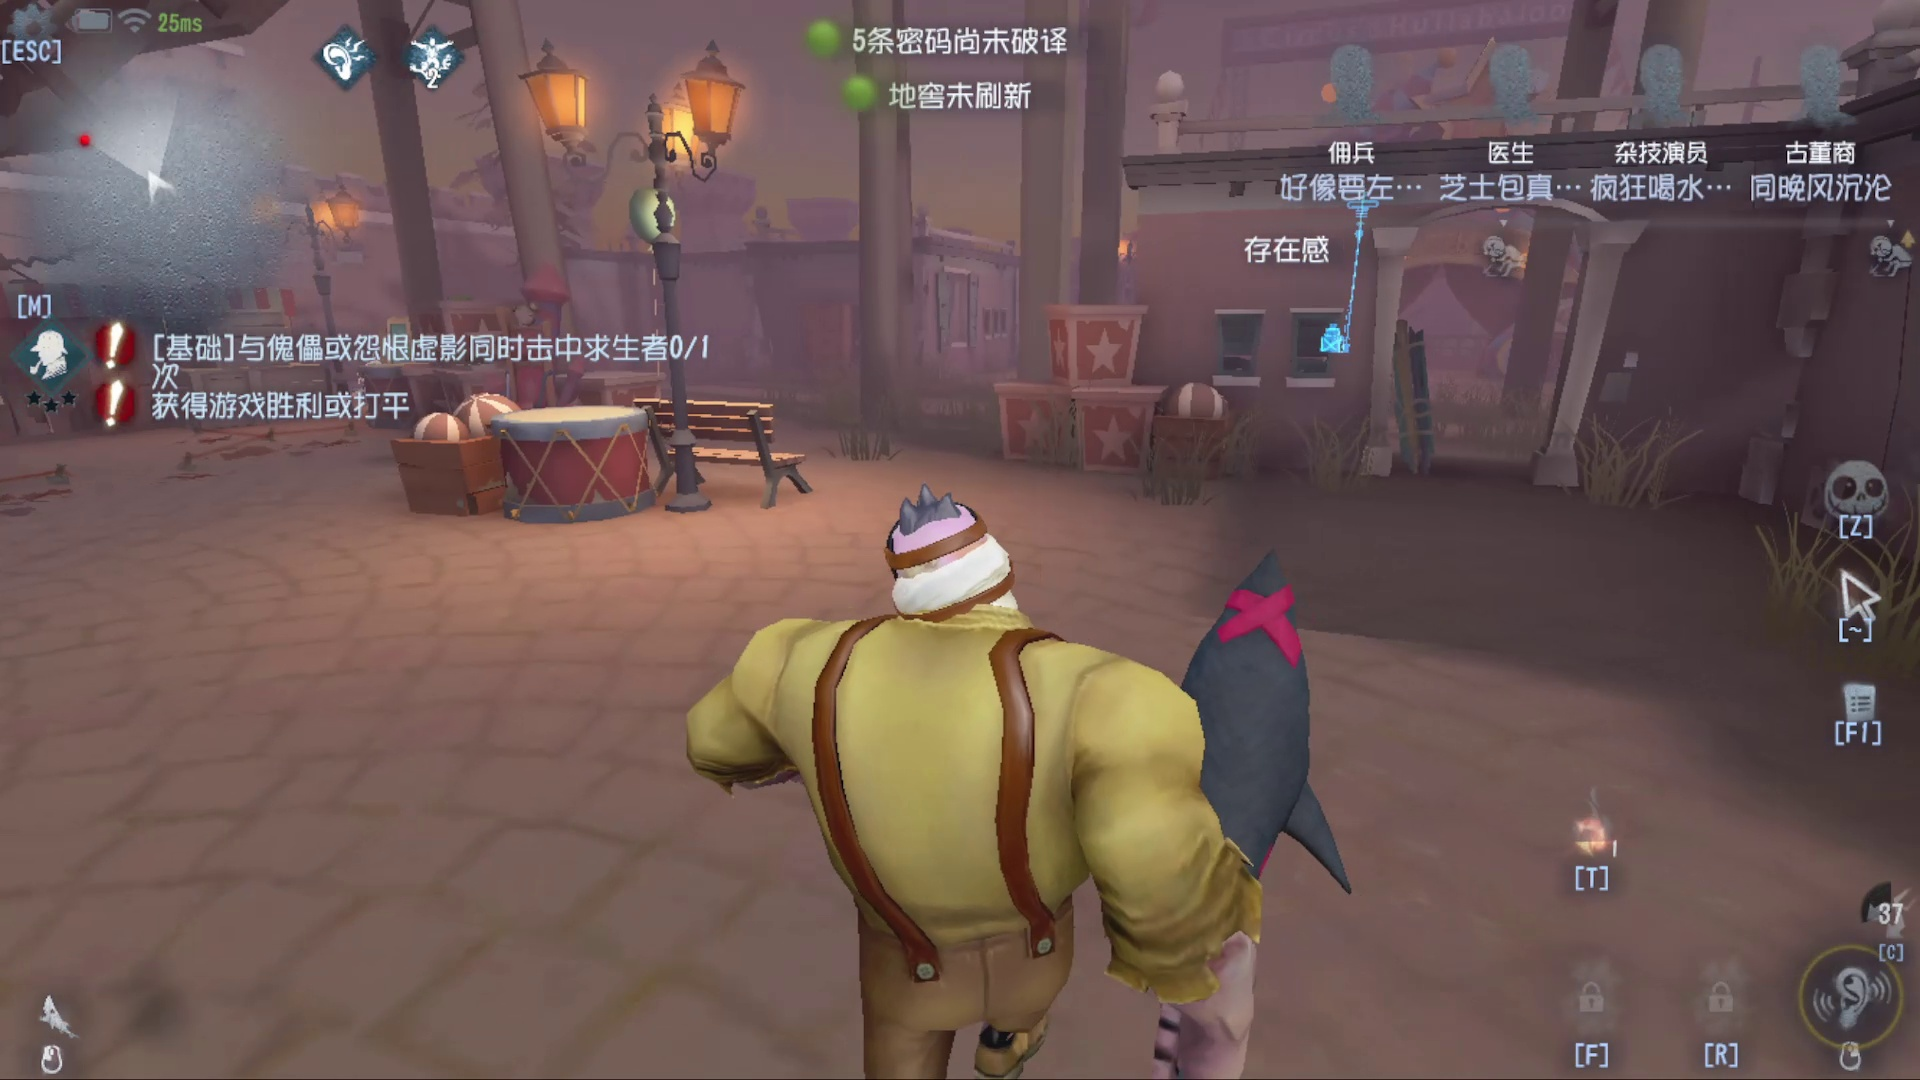密码机: (1298, 179, 1391, 372)
木板: (1378, 309, 1460, 469), (375, 316, 439, 375)
狂欢之椅: (489, 274, 583, 431)
